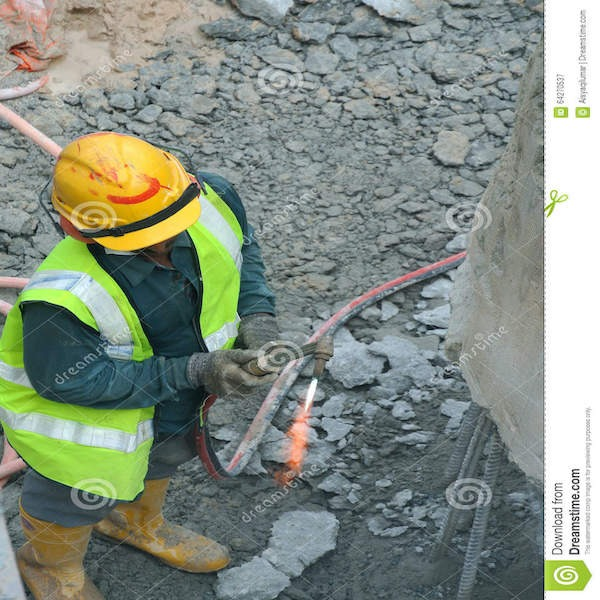helmet: (49, 128, 203, 244)
vest: (13, 247, 156, 503), (192, 188, 256, 354)
